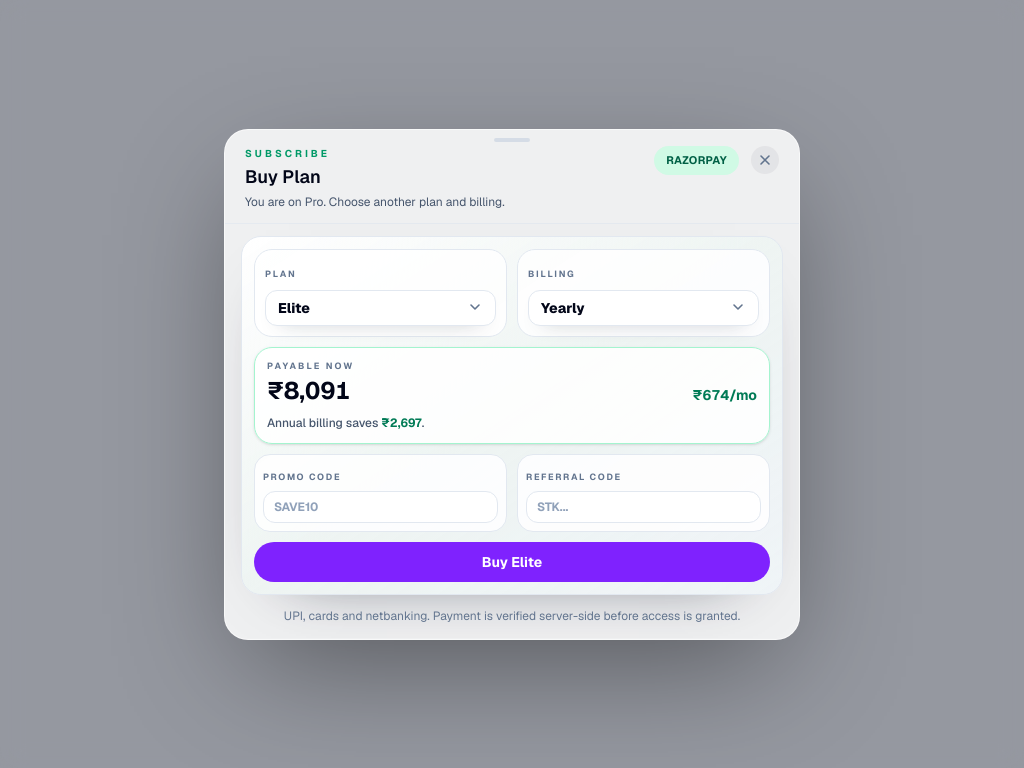
SubscribeModal › names the plan the caller already holds and offers every other plan
Expected: the text "You are on Pro. Choose another plan and billing." is shown, x1=245 y1=193 x2=505 y2=212
Expected: the text "Elite" is shown, x1=278 y1=297 x2=310 y2=317
Click the dropdown named "Subscription plan" at x=380, y=307, box x1=265 y1=289 x2=496 y2=325
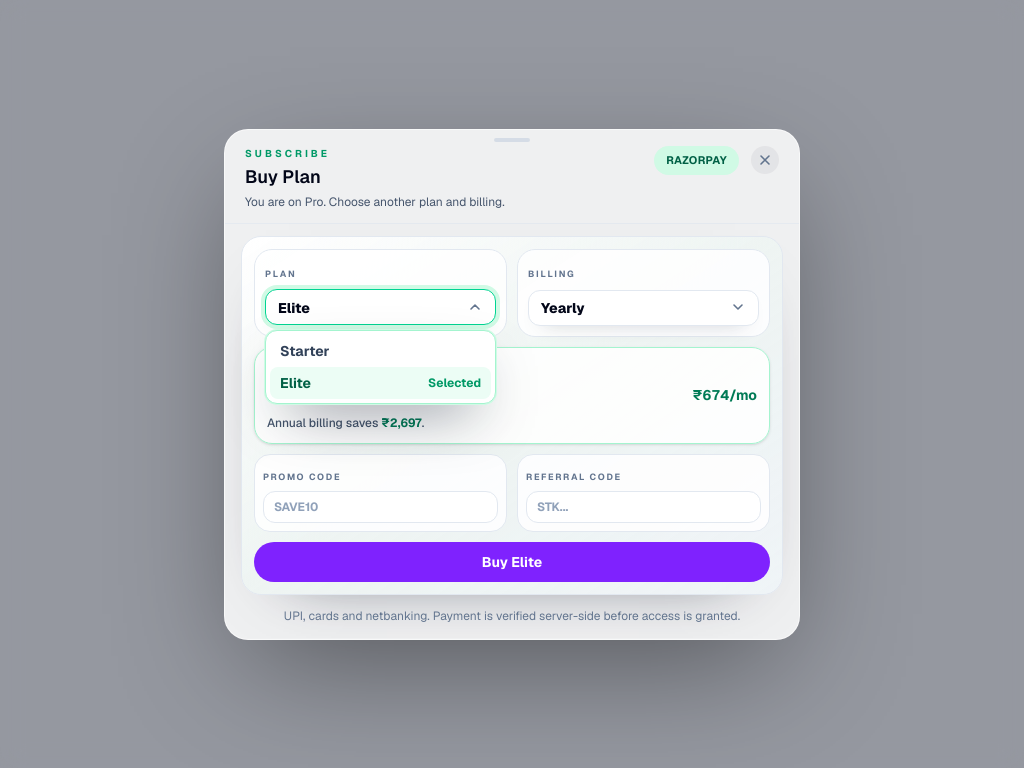
Expected: the button "Buy Elite" is shown, x1=254 y1=542 x2=770 y2=582
Now the option "Starter" is shown, box x1=270 y1=335 x2=491 y2=367
